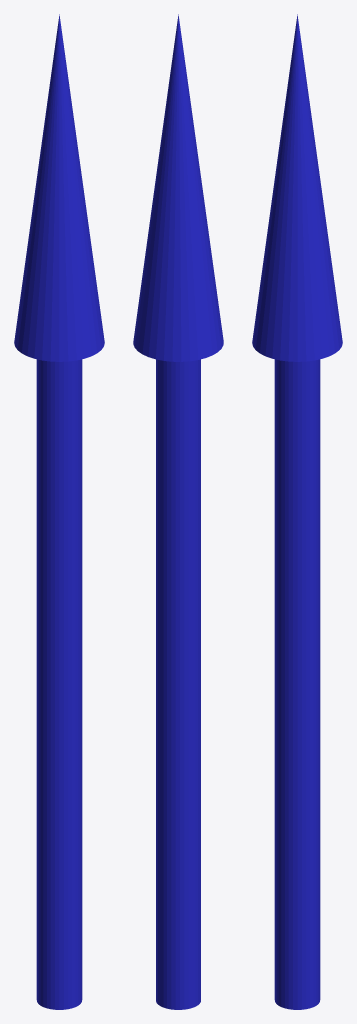
File: BFieldArray.gltf
3 views of the same model, side by side, from view 1: azimuth 90°, elevation 25°; view 2: azimuth 150°, elevation 25°; view 3: azimuth 270°, elevation 25° (orthographic).
Visible parts, largest first — view 1: Arrow; view 2: Arrow; view 3: Arrow.
Part boxes in pixels (x1,y1,x2,y2): Arrow: (14, 14, 104, 1009); Arrow: (133, 14, 223, 1009); Arrow: (252, 14, 342, 1009).
Bounding box in the file's own units: 0.2 × 2.4 × 0.2.
